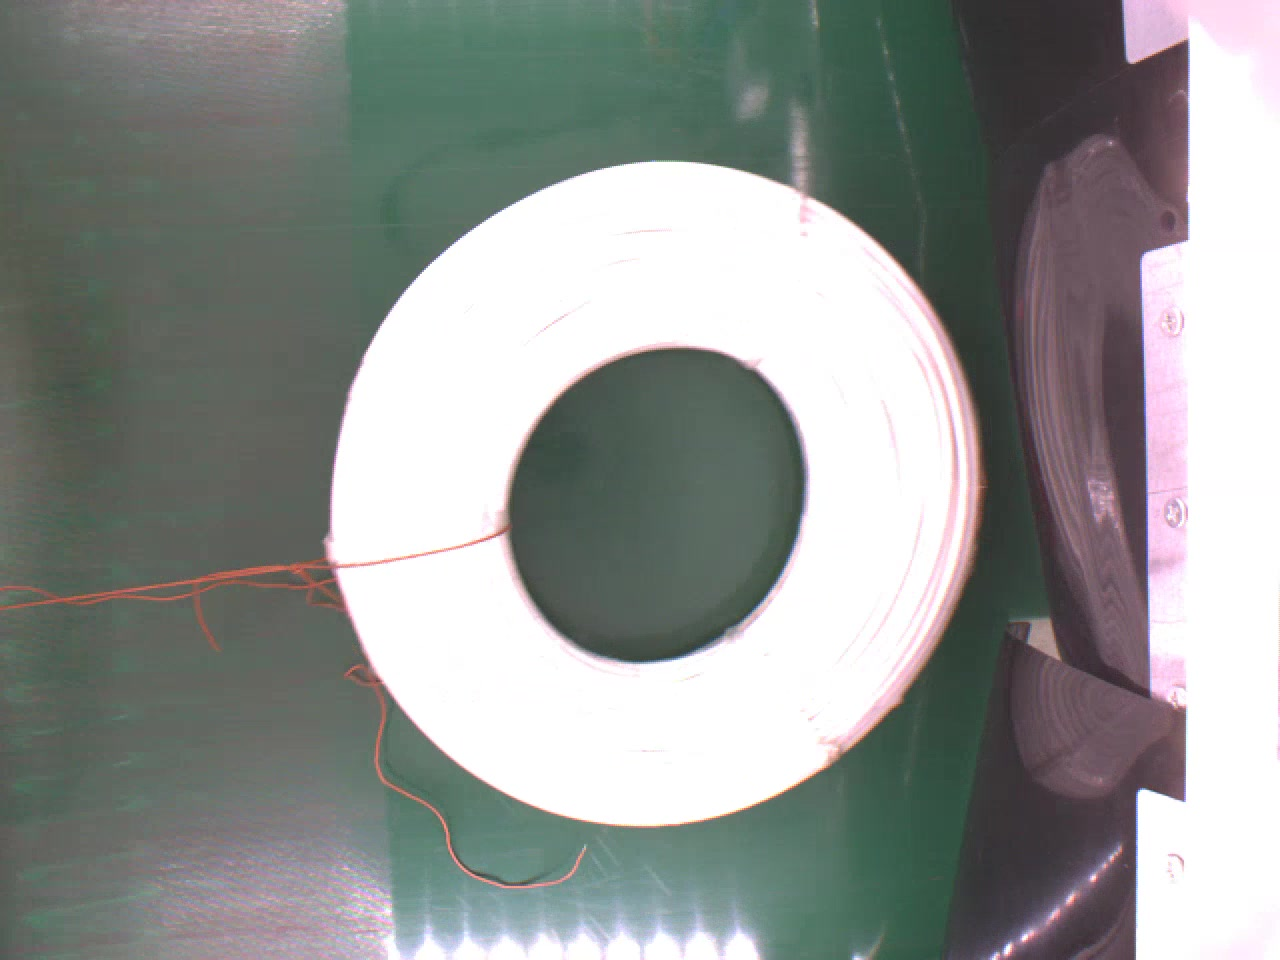white: (321, 155, 992, 826)
